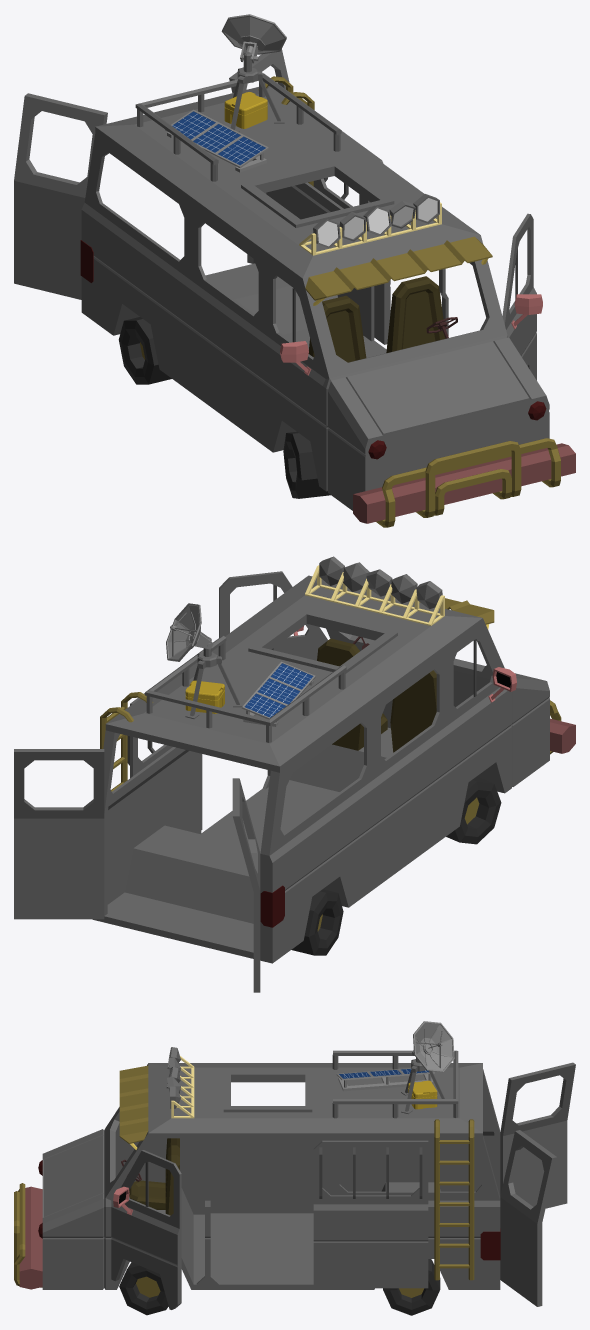
Rendered from Van.fbx.
3 views of the same model, one above another, from view 1: azimuth 30°, elevation 25°; view 2: azimuth 150°, elevation 25°; view 3: azimuth 270°, elevation 25° (orthographic). The views are drawn at different scales.
Visible parts, largest first — view 1: Van; view 2: Van; view 3: Van.
Part boxes in pixels (left/top/right/bottom): Van: left=14, top=14, right=575, bottom=527; Van: left=14, top=556, right=575, bottom=992; Van: left=14, top=1021, right=575, bottom=1315.
Bounding box in the file's own units: 4.61 × 5.21 × 9.83.
